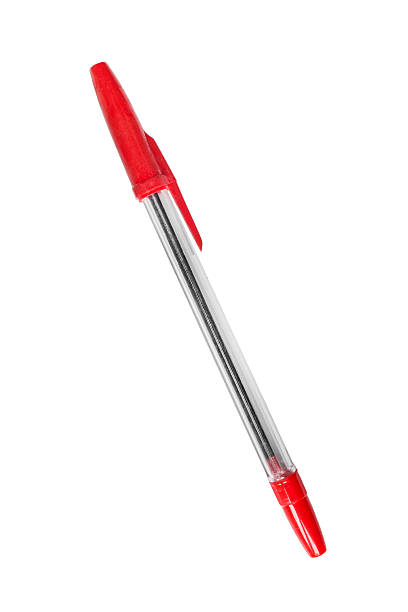pen: (85, 60, 333, 566)
